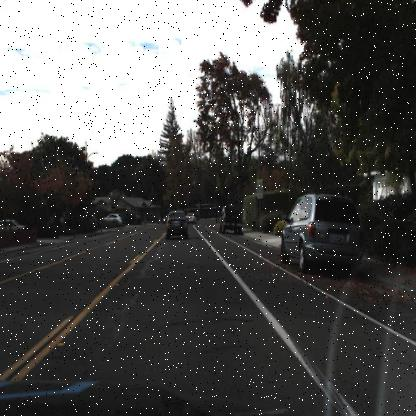car: (282, 191, 365, 281), (164, 210, 190, 241), (0, 216, 28, 244), (224, 204, 246, 236), (104, 212, 127, 224)
